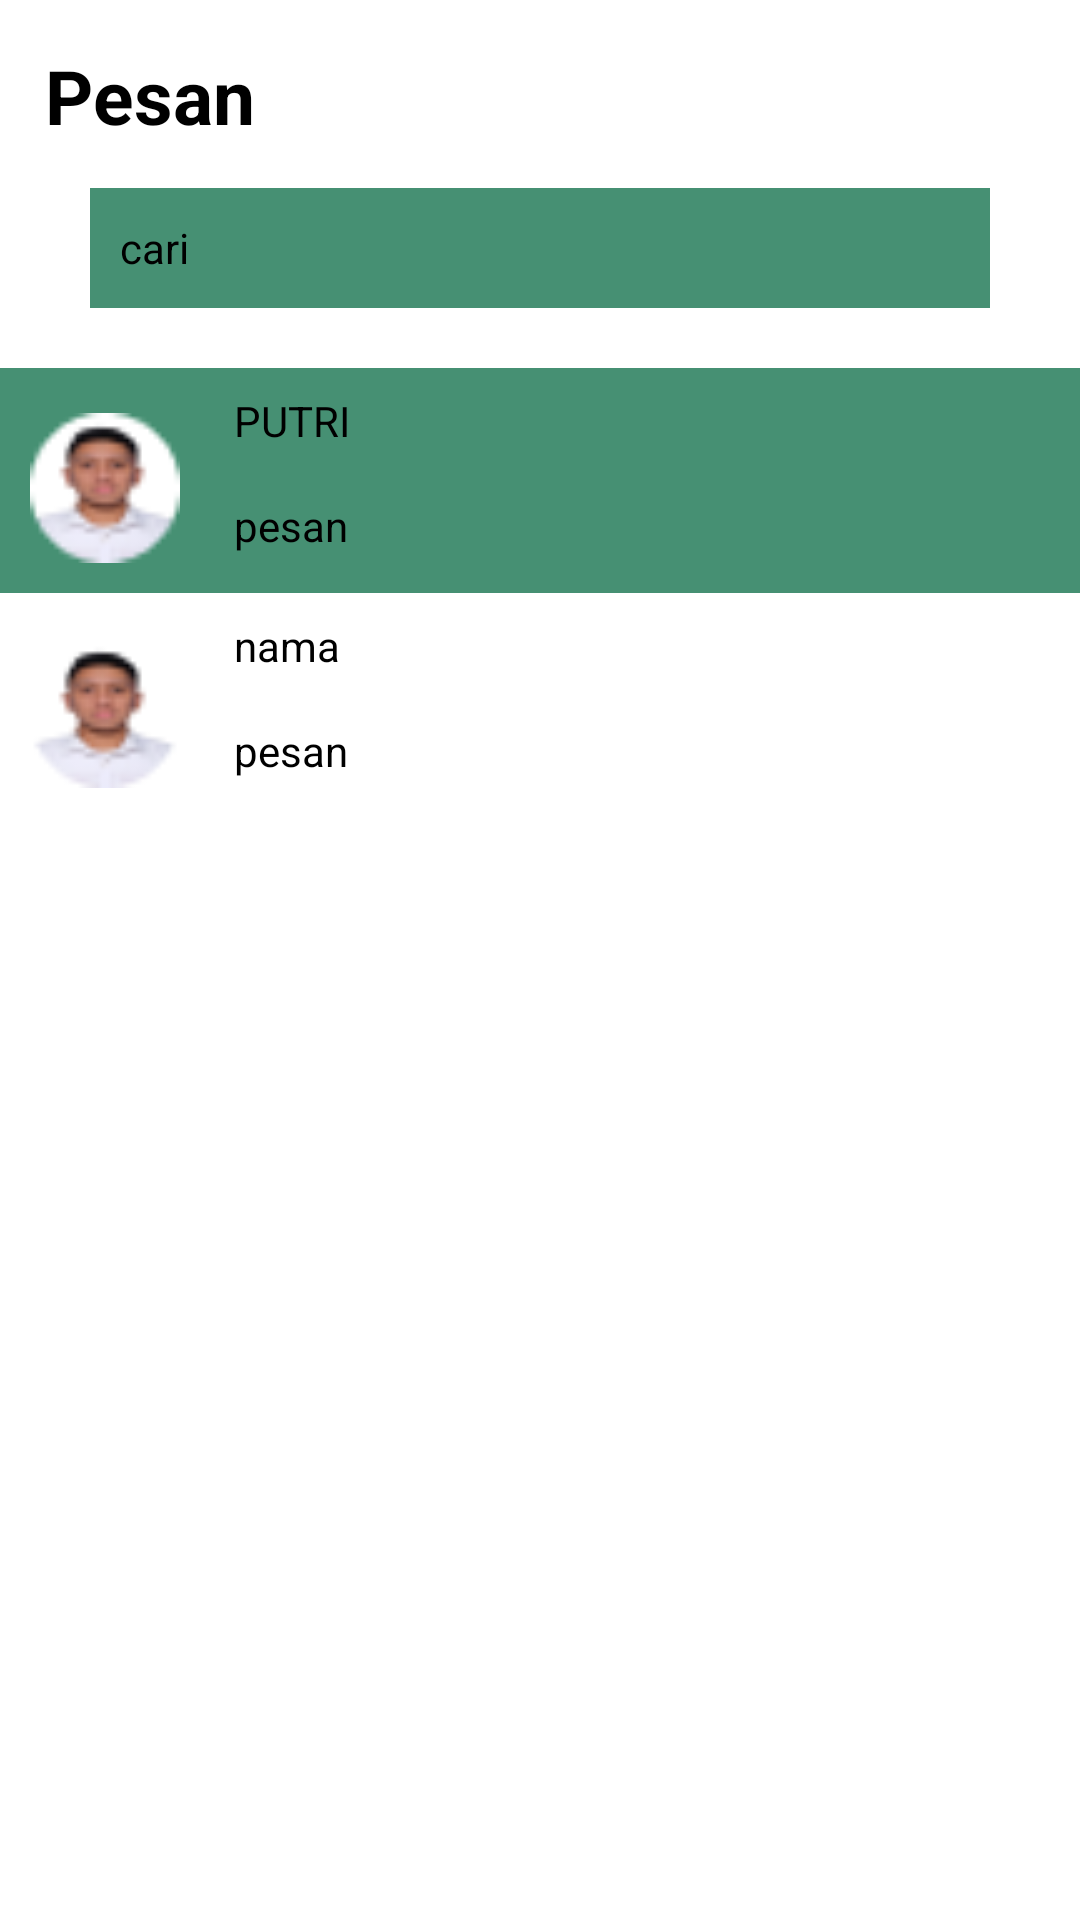

Screen size 1080*1920. Icon name, then its center in pixels as [x,y]:
foto profil: [105,488], [105,719]
